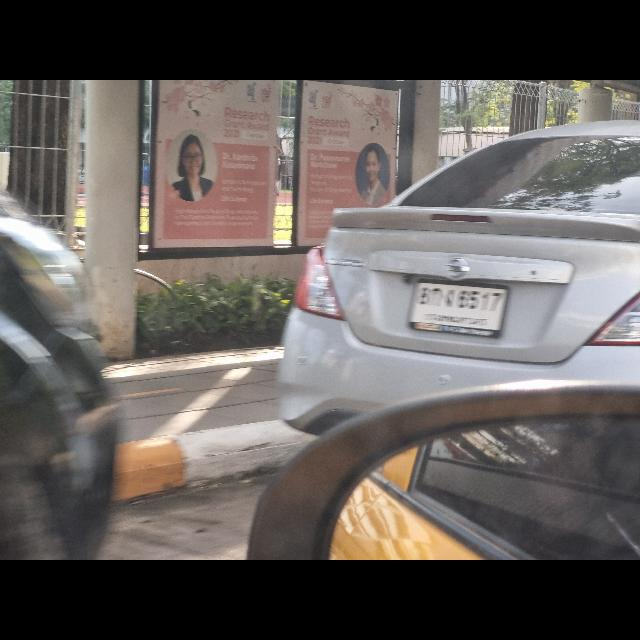licenseplate: (407, 279, 511, 339)
